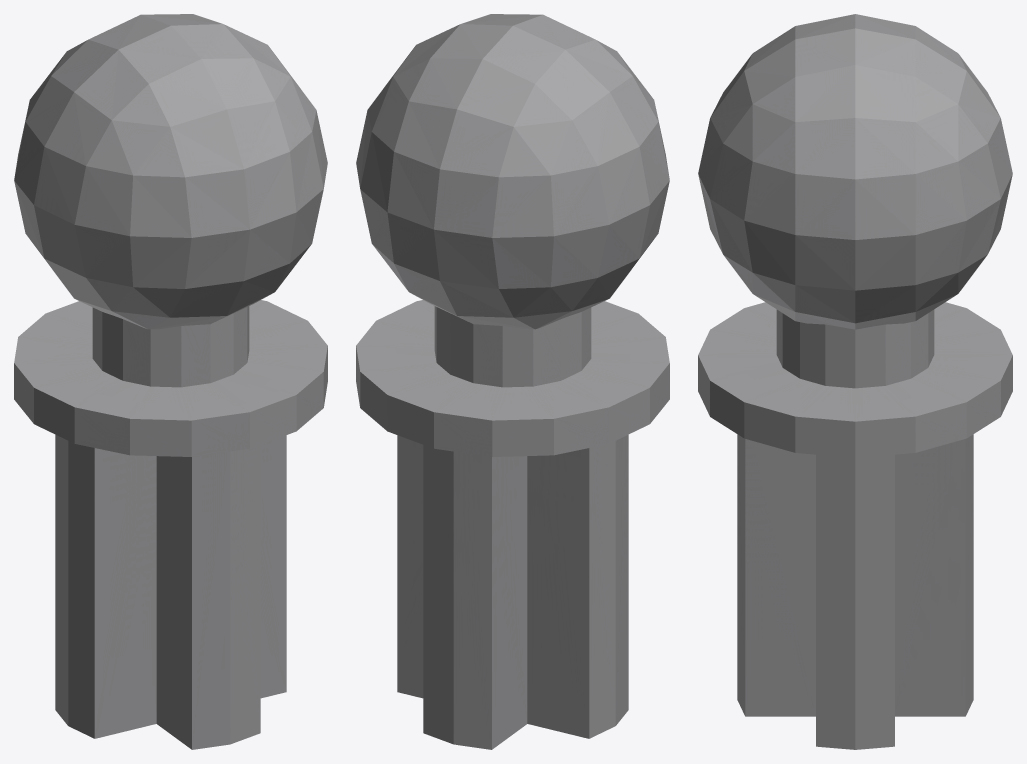
The model's file is ball_w_cross_axle.dae.
The picture shows the model from 3 angles, left to right: view 1: azimuth 30°, elevation 25°; view 2: azimuth 150°, elevation 25°; view 3: azimuth 270°, elevation 25°; orthographic projection.
Visible parts, largest first — view 1: node; view 2: node; view 3: node.
Boxes of the visible parts, box(x1,y1,x2,y2) form: node: box(14, 14, 327, 749); node: box(356, 14, 669, 749); node: box(698, 14, 1012, 749).
Size of the model in its own units: 15.5 by 36.5 by 15.5.
1 material, 1 textured.
